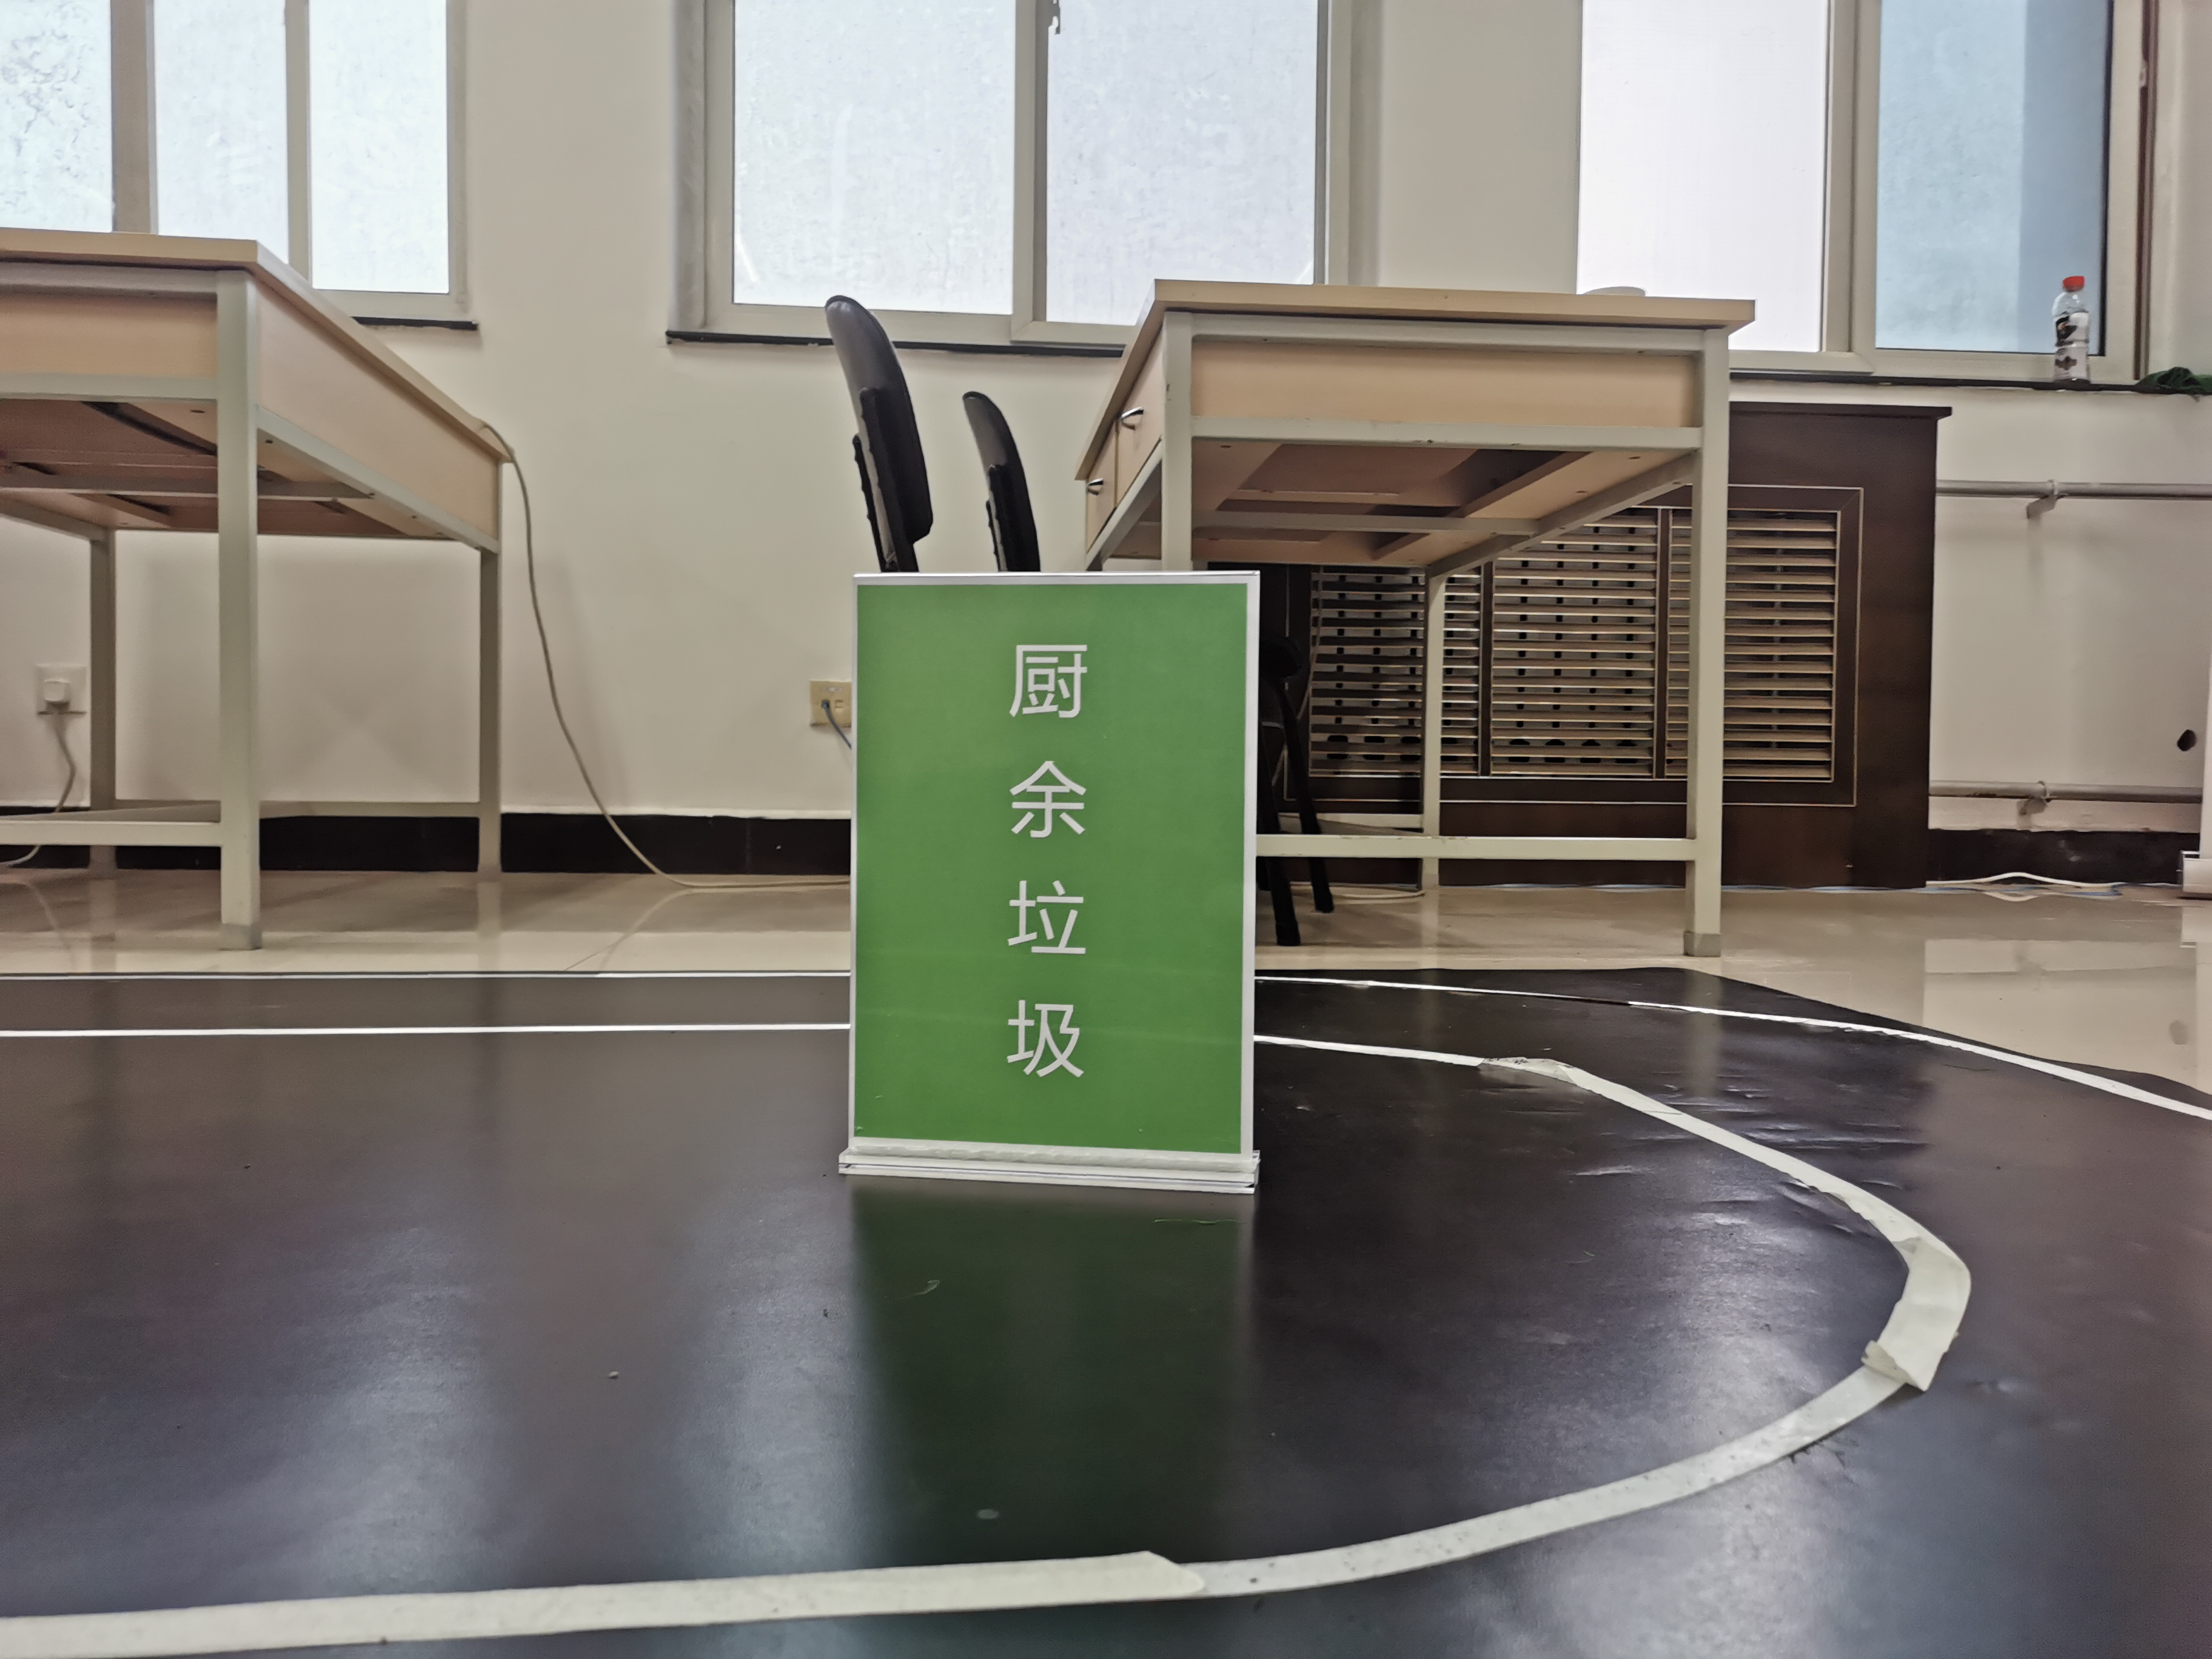green: (862, 586, 1240, 1133)
